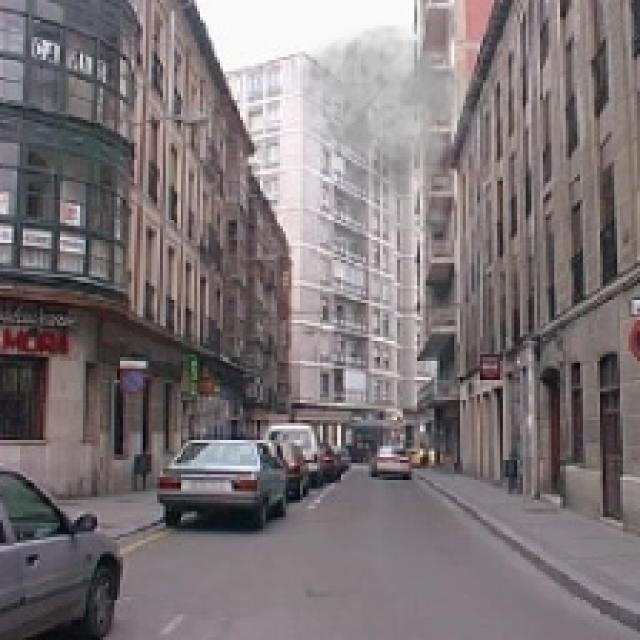smoke: (288, 23, 488, 254)
